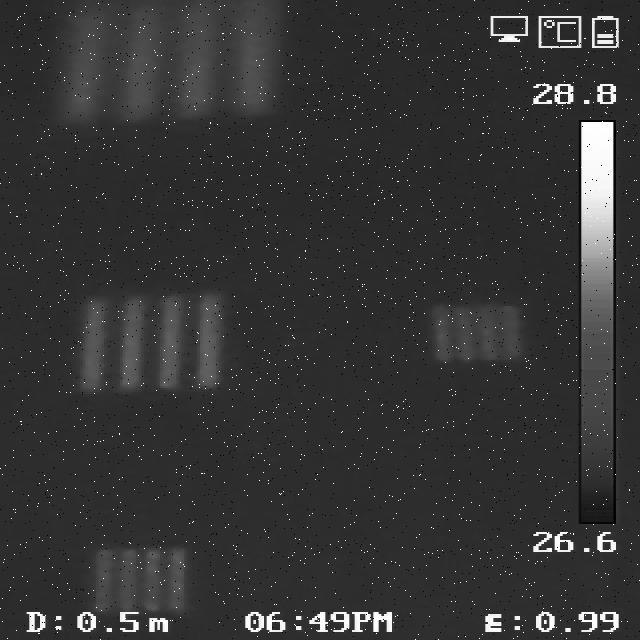Distinguishable 4-bar target: (47, 2, 288, 117), (70, 285, 234, 396), (85, 538, 194, 612), (433, 295, 528, 365)
